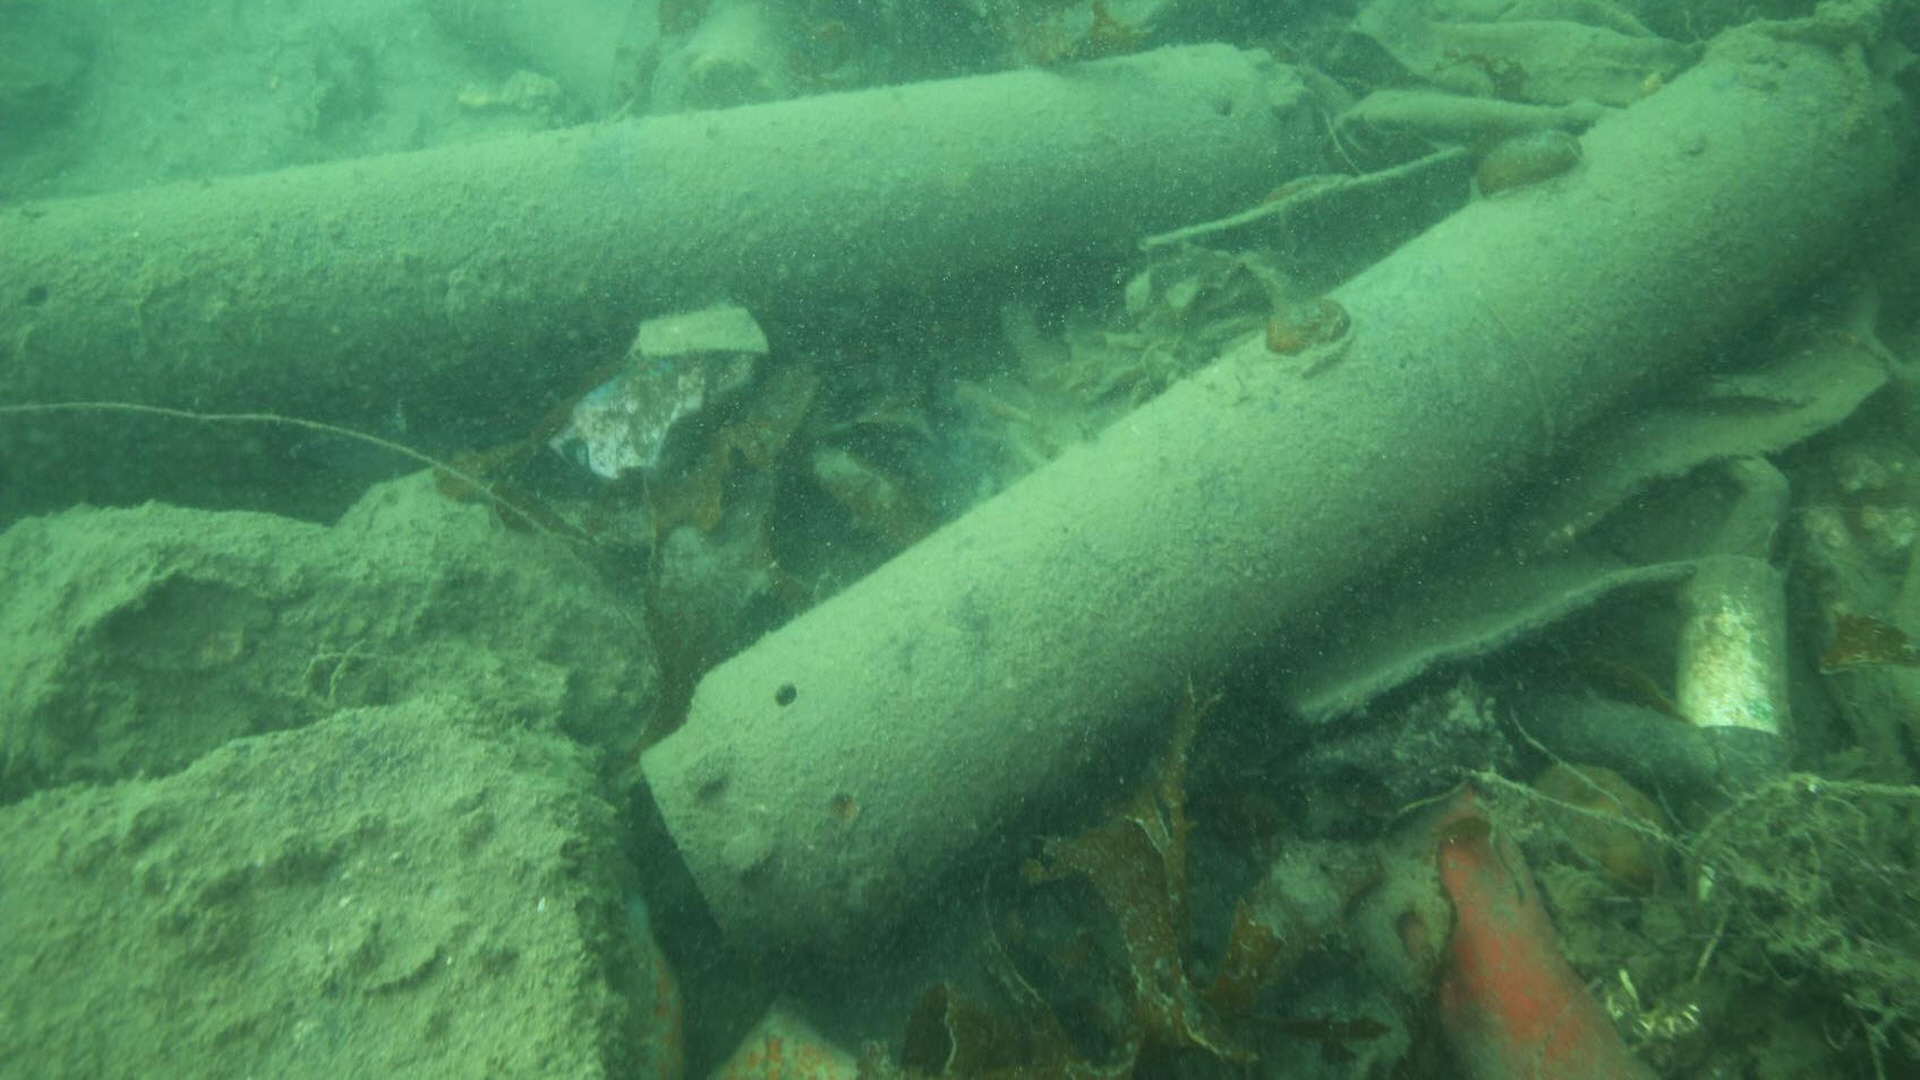eel fish trap: (633, 30, 1900, 963), (0, 40, 1316, 501)
